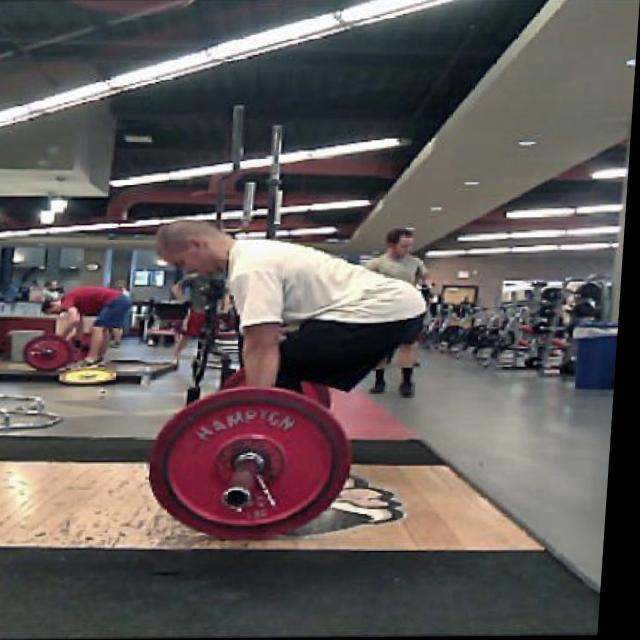barbell: (149, 381, 371, 546)
